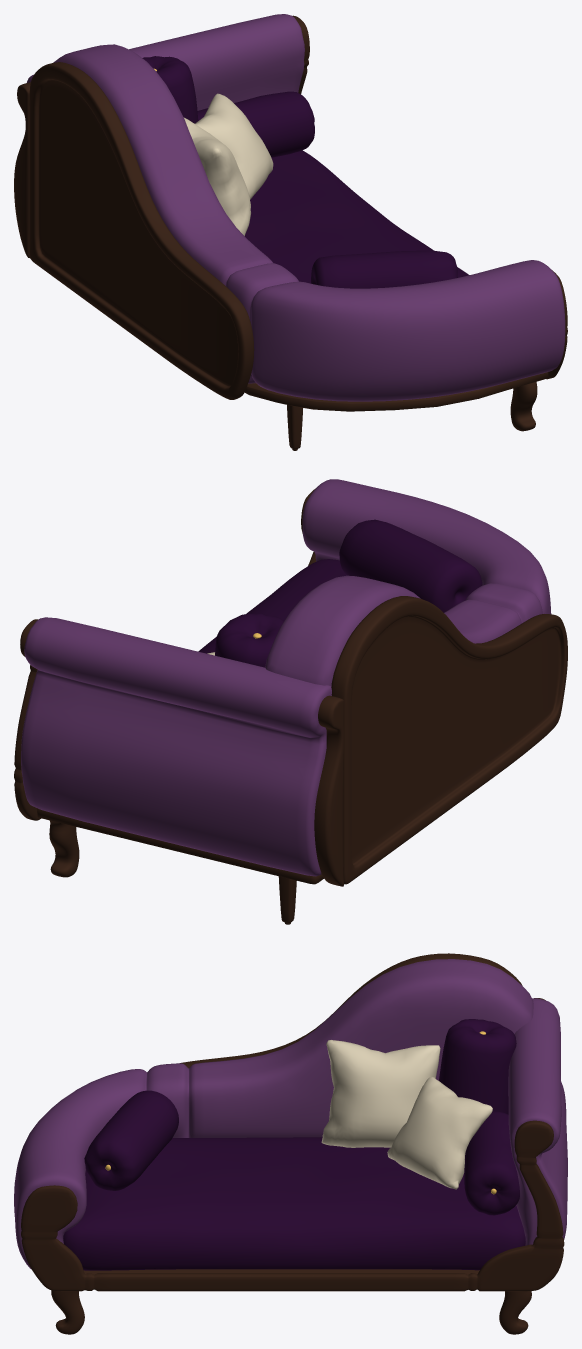
File: Couch.fbx
The picture shows the model from 3 angles, top to bottom: view 1: azimuth 30°, elevation 25°; view 2: azimuth 150°, elevation 25°; view 3: azimuth 270°, elevation 25°; orthographic projection. The views are drawn at different scales.
Parts seen in each view (by area): view 1: LP Square cushion 02; view 2: LP Square cushion 02; view 3: LP Square cushion 02.
Part boxes in pixels (left/top/right/bottom): LP Square cushion 02: left=14, top=14, right=567, bottom=450; LP Square cushion 02: left=14, top=479, right=567, bottom=924; LP Square cushion 02: left=14, top=953, right=567, bottom=1334.
Bounding box in the file's own units: 264 × 253 × 479.
